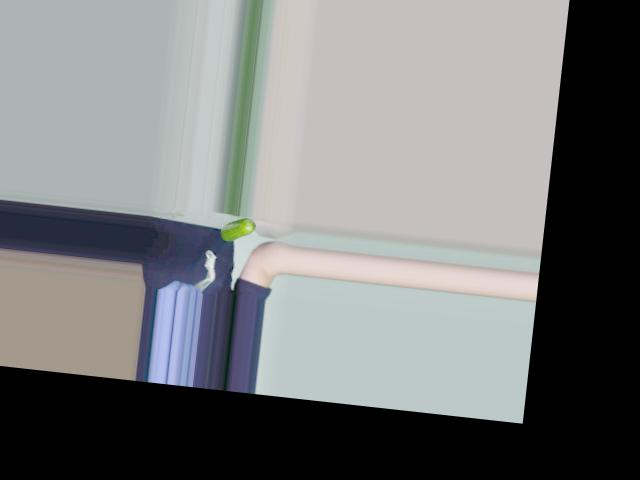cucumber: (220, 215, 256, 243)
